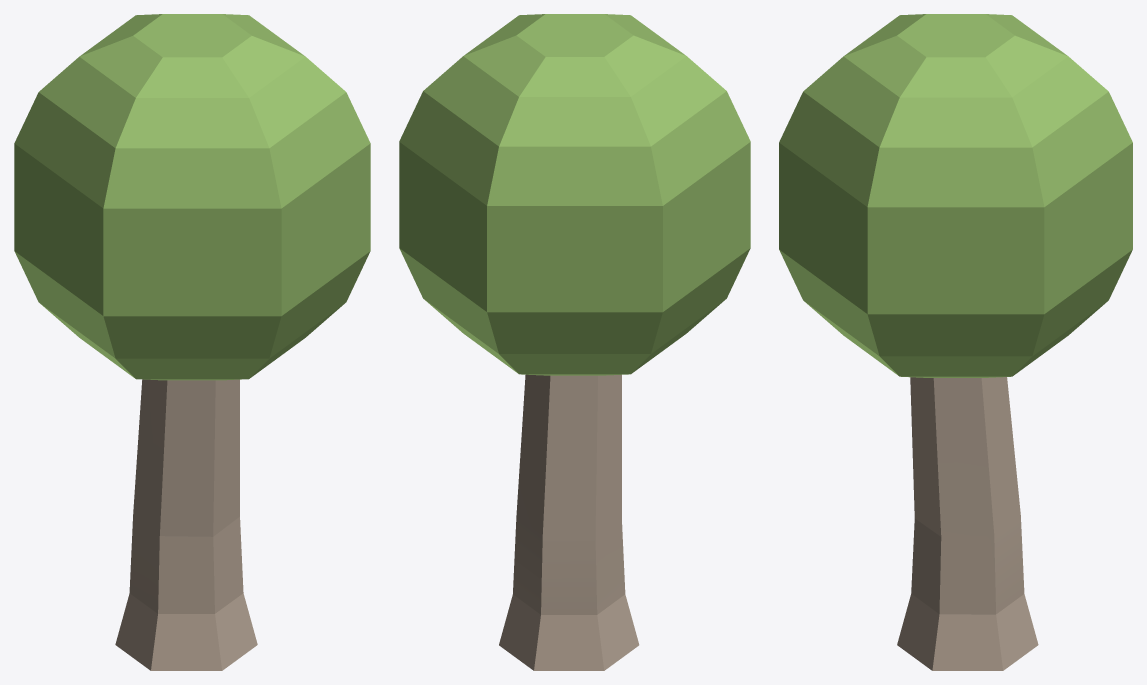
The model's file is Hilly_Prop_Tree_Oak_1.glb.
3 views of the same model, side by side, from view 1: azimuth 30°, elevation 25°; view 2: azimuth 150°, elevation 25°; view 3: azimuth 270°, elevation 25° (orthographic).
Visible parts, largest first — view 1: object1, object2; view 2: object1, object2; view 3: object1, object2.
Boxes of the visible parts, bbox=[...] form: object1: bbox=[14, 14, 370, 380]; object2: bbox=[115, 379, 257, 670]; object1: bbox=[399, 14, 750, 375]; object2: bbox=[499, 374, 639, 670]; object1: bbox=[779, 14, 1132, 377]; object2: bbox=[897, 377, 1038, 670].
Size of the model in its own units: 1.3 by 2.85 by 1.5.
